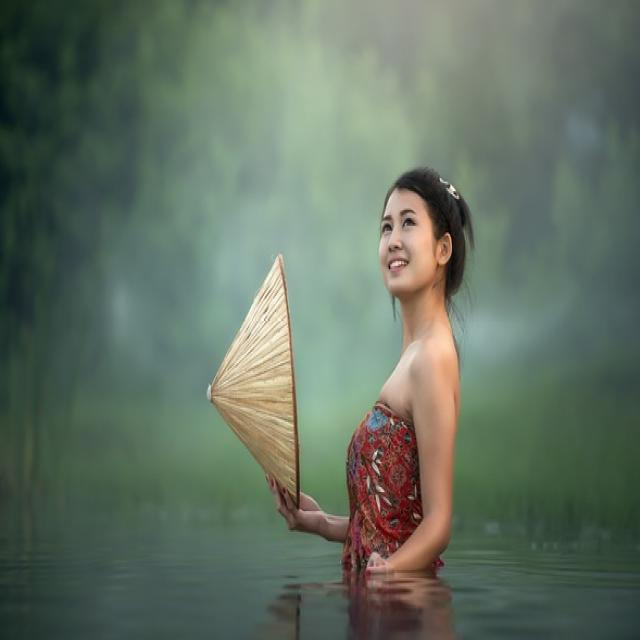Edited images: (248, 139, 475, 601)
